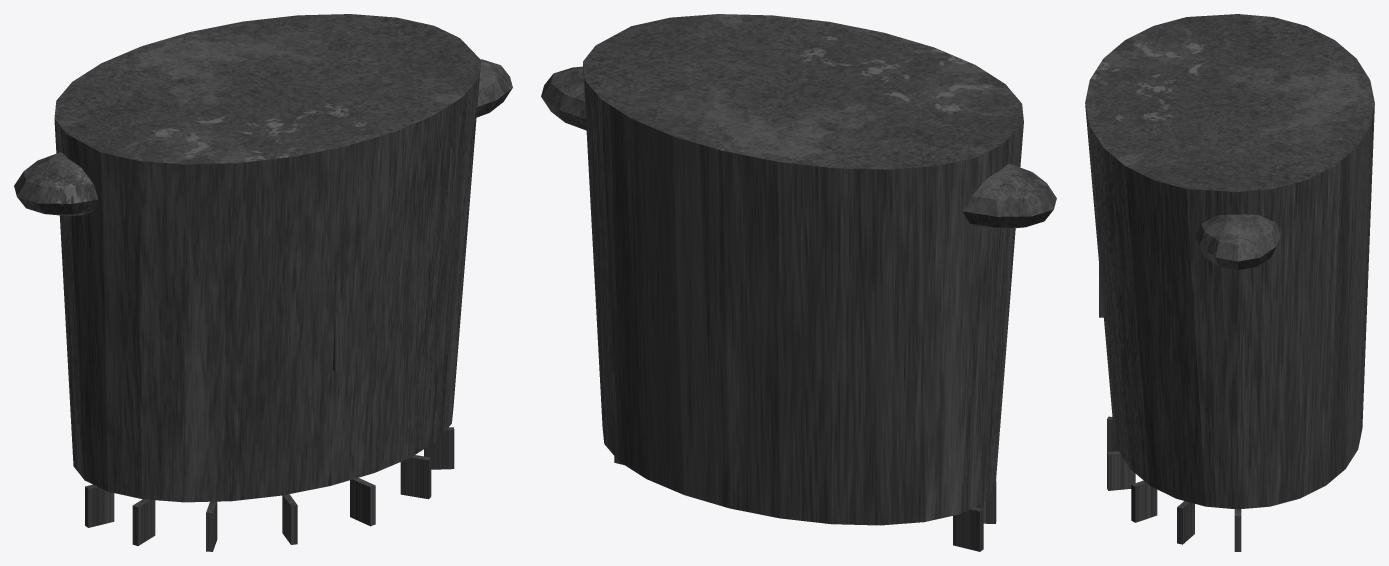
The model's file is plate_cuirass.glb.
The picture shows the model from 3 angles, left to right: view 1: azimuth 30°, elevation 25°; view 2: azimuth 150°, elevation 25°; view 3: azimuth 270°, elevation 25°; orthographic projection. The views are drawn at different scales.
Parts seen in each view (by area): view 1: plate_cuirass; view 2: plate_cuirass; view 3: plate_cuirass.
Boxes of the visible parts, x1,y1,x2,y2 form: plate_cuirass: (14, 14, 512, 551); plate_cuirass: (541, 14, 1056, 551); plate_cuirass: (1085, 14, 1374, 551).
Size of the model in its own units: 0.662 by 0.51 by 0.3632.
1 material, 1 textured.
